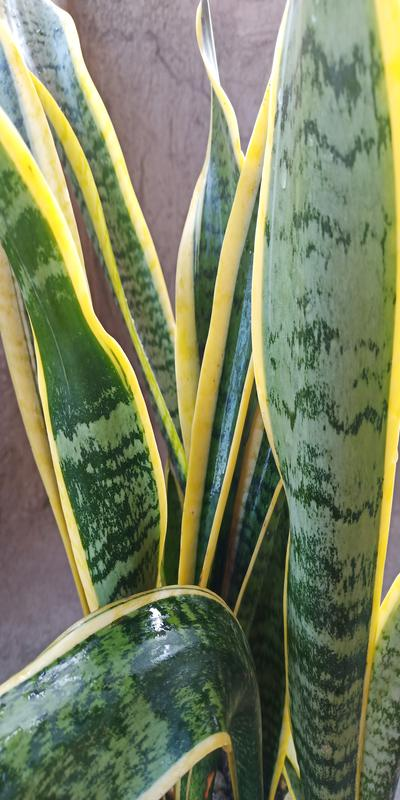Snake plant: (2, 18, 400, 784)
